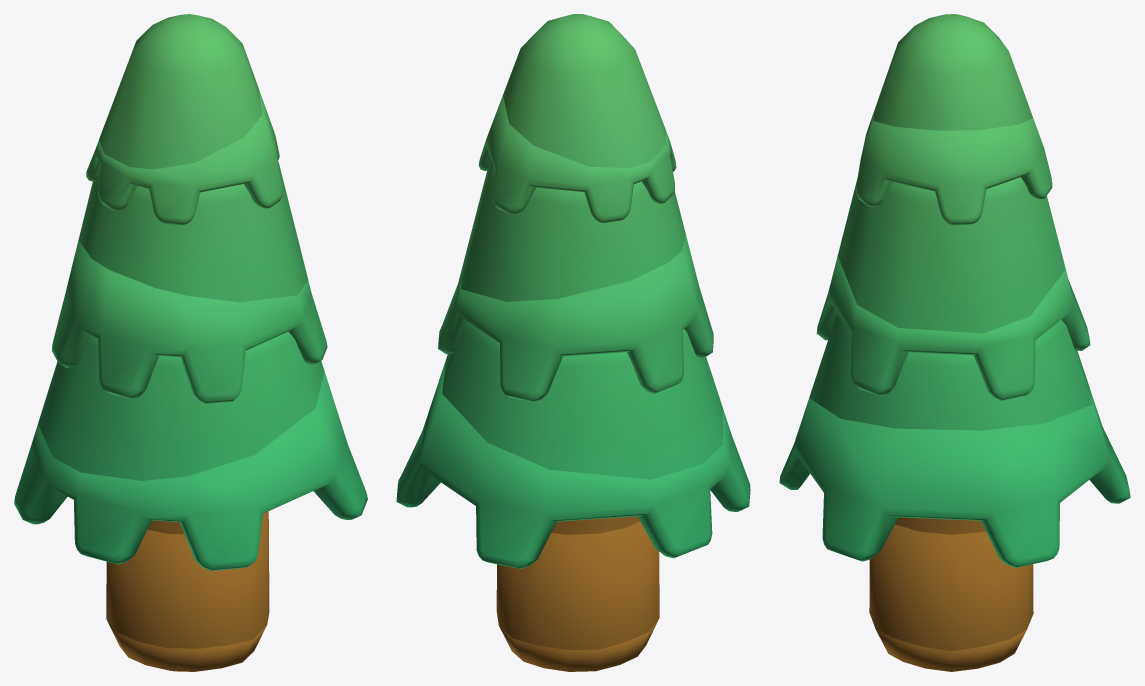
File: Tree.fbx
The picture shows the model from 3 angles, left to right: view 1: azimuth 30°, elevation 25°; view 2: azimuth 150°, elevation 25°; view 3: azimuth 270°, elevation 25°; orthographic projection.
Parts seen in each view (by area): view 1: Trtee_Cuts4, Trtee_Cuts3, Trtee_Cuts5, Trtee_Cuts2, Trtee_Cuts6, Trtee_Cuts1; view 2: Trtee_Cuts4, Trtee_Cuts3, Trtee_Cuts5, Trtee_Cuts2, Trtee_Cuts6, Trtee_Cuts1; view 3: Trtee_Cuts3, Trtee_Cuts5, Trtee_Cuts4, Trtee_Cuts6, Trtee_Cuts2, Trtee_Cuts1.
Part boxes in pixels (x1,y1,x2,y2): Trtee_Cuts4: [38, 240, 327, 480]; Trtee_Cuts3: [78, 89, 308, 302]; Trtee_Cuts5: [14, 372, 367, 570]; Trtee_Cuts2: [99, 14, 262, 169]; Trtee_Cuts6: [106, 511, 269, 648]; Trtee_Cuts1: [107, 620, 266, 671]; Trtee_Cuts4: [438, 233, 722, 479]; Trtee_Cuts3: [461, 95, 685, 301]; Trtee_Cuts5: [396, 359, 750, 568]; Trtee_Cuts2: [503, 14, 666, 167]; Trtee_Cuts6: [496, 521, 659, 649]; Trtee_Cuts1: [499, 619, 658, 671]; Trtee_Cuts3: [837, 111, 1065, 333]; Trtee_Cuts5: [779, 389, 1130, 567]; Trtee_Cuts4: [809, 247, 1092, 430]; Trtee_Cuts6: [869, 524, 1033, 651]; Trtee_Cuts2: [873, 14, 1032, 130]; Trtee_Cuts1: [876, 629, 1026, 671].
Size of the model in its own units: 5.38 by 11.02 by 5.58.
Materials: 3 (1 with a texture image).
